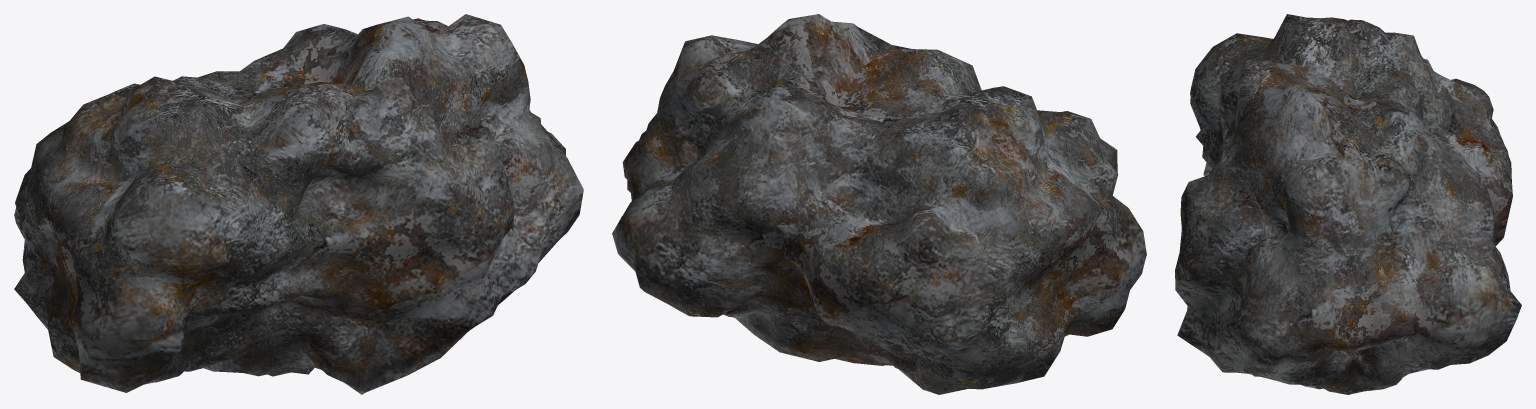
The model's file is Rocky_Asteroid_2.obj.
3 views of the same model, side by side, from view 1: azimuth 30°, elevation 25°; view 2: azimuth 150°, elevation 25°; view 3: azimuth 270°, elevation 25° (orthographic). The views are drawn at different scales.
Visible parts, largest first — view 1: Rocky_Asteroid_2_Asteroid_2; view 2: Rocky_Asteroid_2_Asteroid_2; view 3: Rocky_Asteroid_2_Asteroid_2.
Part boxes in pixels (<box>): Rocky_Asteroid_2_Asteroid_2: <box>14,14,583,394</box>; Rocky_Asteroid_2_Asteroid_2: <box>612,14,1146,394</box>; Rocky_Asteroid_2_Asteroid_2: <box>1175,14,1521,394</box>.
Bounding box in the file's own units: 0.9999 × 0.6315 × 0.6253.
Materials: 1 (1 with a texture image).
